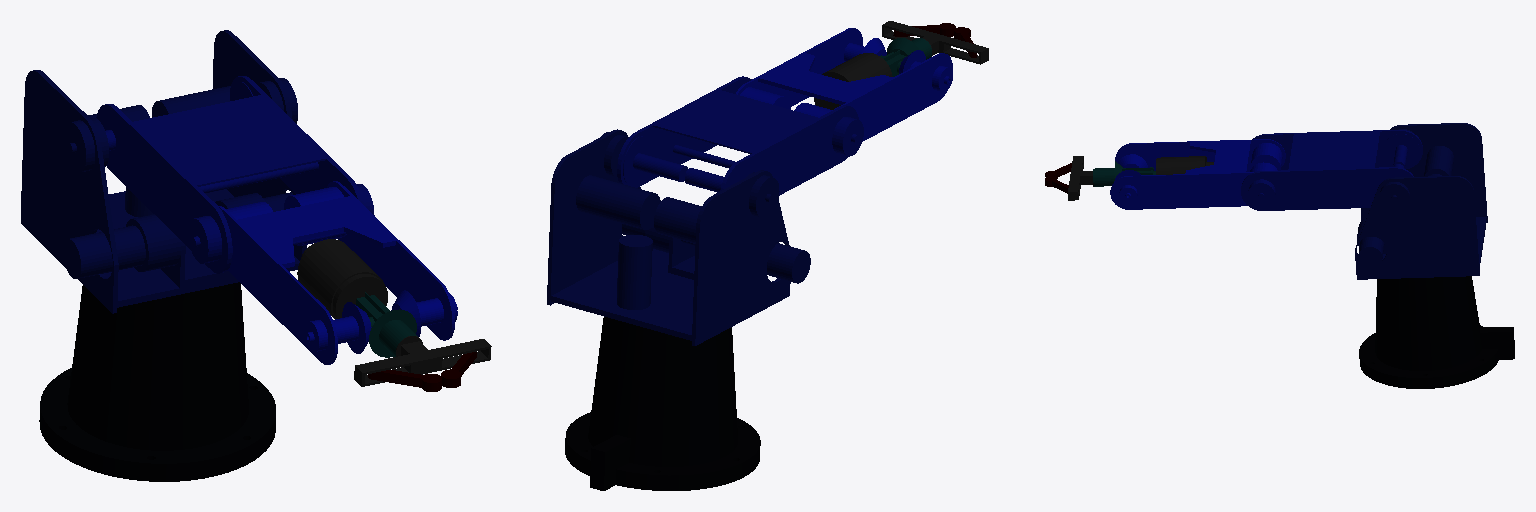
The robot description file, URDF, robot "sboter4u_model":
<robot
  name="sboter4u_model">
  <link
    name="base_Link">
    <inertial>
      <origin
        xyz="0.13275 0.14932 0.15353"
        rpy="0 0 0" />
      <mass
        value="13.939" />
      <inertia
        ixx="0.10125"
        ixy="-0.00021844"
        ixz="-0.00033793"
        iyy="0.087972"
        iyz="0.0034335"
        izz="0.095961" />
    </inertial>
    <visual>
      <origin
        xyz="0 0 0"
        rpy="0 0 0" />
      <geometry>
        <mesh
          filename="package://sboter4u_model/meshes/base_Link.STL" />
      </geometry>
      <material
        name="">
        <color
          rgba="0.01706 0.01961 0.02824 1" />
      </material>
    </visual>
    <collision>
      <origin
        xyz="0 0 0"
        rpy="0 0 0" />
      <geometry>
        <mesh
          filename="package://sboter4u_model/meshes/base_Link.STL" />
      </geometry>
    </collision>
  </link>
  <link
    name="shoulder_Link">
    <inertial>
      <origin
        xyz="0.00064794 -0.0081798 0.11189"
        rpy="0 0 0" />
      <mass
        value="12.102" />
      <inertia
        ixx="0.069345"
        ixy="0.00053463"
        ixz="-9.59E-05"
        iyy="0.09864"
        iyz="0.0061367"
        izz="0.10261" />
    </inertial>
    <visual>
      <origin
        xyz="0 0 0"
        rpy="0 0 0" />
      <geometry>
        <mesh
          filename="package://sboter4u_model/meshes/shoulder_Link.STL" />
      </geometry>
      <material
        name="">
        <color
          rgba="0.02941 0.04902 0.24902 1" />
      </material>
    </visual>
    <collision>
      <origin
        xyz="0 0 0"
        rpy="0 0 0" />
      <geometry>
        <mesh
          filename="package://sboter4u_model/meshes/shoulder_Link.STL" />
      </geometry>
    </collision>
  </link>
  <joint
    name="base_joint"
    type="revolute">
    <origin
      xyz="0.13222 -0.16175 0.21721"
      rpy="0.063114 2.647E-17 -0.063535" />
    <parent
      link="base_Link" />
    <child
      link="shoulder_Link" />
    <axis
      xyz="0 0 1" />
    <limit
      lower="-2.7054"
      upper="2.7054"
      effort="5"
      velocity="0.3488" />
    <dynamics
      damping="0.01"
      friction="0.01" />
  </joint>
  <link
    name="elbow_Link">
    <inertial>
      <origin
        xyz="7.2164E-16 -0.11075 0.0039402"
        rpy="0 0 0" />
      <mass
        value="2.8284" />
      <inertia
        ixx="0.021626"
        ixy="-8.9392E-17"
        ixz="2.0553E-15"
        iyy="0.013632"
        iyz="-2.3367E-05"
        izz="0.033242" />
    </inertial>
    <visual>
      <origin
        xyz="0 0 0"
        rpy="0 0 0" />
      <geometry>
        <mesh
          filename="package://sboter4u_model/meshes/elbow_Link.STL" />
      </geometry>
      <material
        name="">
        <color
          rgba="0.02941 0.04902 0.34902 1" />
      </material>
    </visual>
    <collision>
      <origin
        xyz="0 0 0"
        rpy="0 0 0" />
      <geometry>
        <mesh
          filename="package://sboter4u_model/meshes/elbow_Link.STL" />
      </geometry>
    </collision>
  </link>
  <joint
    name="shoulder_joint"
    type="revolute">
    <origin
      xyz="0 -0.029 0.19766"
      rpy="0 -8.6736E-19 -1.3878E-17" />
    <parent
      link="shoulder_Link" />
    <child
      link="elbow_Link" />
    <axis
      xyz="1 0 0" />
    <limit
      lower="-2.2690"
      upper="0.5236"
      effort="4"
      velocity="0.4587" />
    <dynamics
      damping="0.01"
      friction="0.01" />
  </joint>
  <link
    name="pitch_Link">
    <inertial>
      <origin
        xyz="2.9815E-13 -0.073952 0.003323"
        rpy="0 0 0" />
      <mass
        value="3.2412" />
      <inertia
        ixx="0.027436"
        ixy="-1.1652E-13"
        ixz="-1.6685E-15"
        iyy="0.0081405"
        iyz="0.00011392"
        izz="0.034105" />
    </inertial>
    <visual>
      <origin
        xyz="0 0 0"
        rpy="0 0 0" />
      <geometry>
        <mesh
          filename="package://sboter4u_model/meshes/pitch_Link.STL" />
      </geometry>
      <material
        name="">
        <color
          rgba="0.02941 0.04902 0.44902 1" />
      </material>
    </visual>
    <collision>
      <origin
        xyz="0 0 0"
        rpy="0 0 0" />
      <geometry>
        <mesh
          filename="package://sboter4u_model/meshes/pitch_Link.STL" />
      </geometry>
    </collision>
  </link>
  <joint
    name="elbow_joint"
    type="revolute">
    <origin
      xyz="0 -0.22 0"
      rpy="1.3878E-17 1.6914E-16 1.3461E-15" />
    <parent
      link="elbow_Link" />
    <child
      link="pitch_Link" />
    <axis
      xyz="1 0 0" />
    <limit
      lower="-1.8327"
      upper="2.2690"
      effort="3"
      velocity="0.4587" />
    <dynamics
      damping="0.01"
      friction="0.01" />
  </joint>
  <link
    name="roll_Link">
    <inertial>
      <origin
        xyz="5.0577E-05 3.8307E-10 -0.018366"
        rpy="0 0 0" />
      <mass
        value="0.48195" />
      <inertia
        ixx="0.00036556"
        ixy="-7.8517E-13"
        ixz="7.4017E-07"
        iyy="0.00036398"
        iyz="-2.2678E-13"
        izz="6.7274E-05" />
    </inertial>
    <visual>
      <origin
        xyz="0 0 0"
        rpy="0 0 0" />
      <geometry>
        <mesh
          filename="package://sboter4u_model/meshes/roll_Link.STL" />
      </geometry>
      <material
        name="">
        <color
          rgba="0.02941 0.14902 0.14902 1" />
      </material>
    </visual>
    <collision>
      <origin
        xyz="0 0 0"
        rpy="0 0 0" />
      <geometry>
        <mesh
          filename="package://sboter4u_model/meshes/roll_Link.STL" />
      </geometry>
    </collision>
  </link>
  <joint
    name="pitch_joint"
    type="revolute">
    <origin
      xyz="0 -0.22 0"
      rpy="-1.5708 -1.5708 0" />
    <parent
      link="pitch_Link" />
    <child
      link="roll_Link" />
    <axis
      xyz="0 1 0" />
    <limit
      lower="-2.2690"
      upper="2.2690"
      effort="2"
      velocity="1.4478" />
    <dynamics
      damping="0.01"
      friction="0.01" />
  </joint>
  <link
    name="gripper_Link">
    <inertial>
      <origin
        xyz="2.2204E-16 -8.3267E-17 0.070299"
        rpy="0 0 0" />
      <mass
        value="0.27956" />
      <inertia
        ixx="0.00098187"
        ixy="-2.7952E-20"
        ixz="2.8189E-18"
        iyy="0.00095638"
        iyz="-2.4183E-18"
        izz="0.00013429" />
    </inertial>
    <visual>
      <origin
        xyz="0 0 0"
        rpy="0 0 0" />
      <geometry>
        <mesh
          filename="package://sboter4u_model/meshes/gripper_Link.STL" />
      </geometry>
      <material
        name="">
        <color
          rgba="0.1 0.1 0.1 1" />
      </material>
    </visual>
    <collision>
      <origin
        xyz="0 0 0"
        rpy="0 0 0" />
      <geometry>
        <mesh
          filename="package://sboter4u_model/meshes/gripper_Link.STL" />
      </geometry>
    </collision>
  </link>
  <joint
    name="roll_joint"
    type="revolute">
    <origin
      xyz="0 0 0"
      rpy="0 1.3878E-17 0" />
    <parent
      link="roll_Link" />
    <child
      link="gripper_Link" />
    <axis
      xyz="0 0 1" />
    <limit
      lower="-9.9490"
      upper="9.9490"
      effort="2"
      velocity="1.8491" />
    <dynamics
      damping="0.01"
      friction="0.01" />
  </joint>
  <link
    name="pad1_Link">
    <inertial>
      <origin
        xyz="-0.039374 5.5511E-17 -0.00025"
        rpy="0 0 0" />
      <mass
        value="0.007491" />
      <inertia
        ixx="1.655E-07"
        ixy="-2.9699E-20"
        ixz="-3.3353E-19"
        iyy="3.5223E-06"
        iyz="3.7058E-22"
        izz="3.563E-06" />
    </inertial>
    <visual>
      <origin
        xyz="0 0 0"
        rpy="0 0 0" />
      <geometry>
        <mesh
          filename="package://sboter4u_model/meshes/pad1_Link.STL" />
      </geometry>
      <material
        name="">
        <color
          rgba="0.1 0 0 1" />
      </material>
    </visual>
    <collision>
      <origin
        xyz="0 0 0"
        rpy="0 0 0" />
      <geometry>
        <mesh
          filename="package://sboter4u_model/meshes/pad1_Link.STL" />
      </geometry>
    </collision>
  </link>
  <joint
    name="pad1_joint"
    type="revolute">
    <origin
      xyz="0 -0.0545 -0.0905"
      rpy="1.5708 -0.74758 -1.5708" />
    <parent
      link="gripper_Link" />
    <child
      link="pad1_Link" />
    <axis
      xyz="0 0 1" />
    <limit
      lower="0"
      upper="1.5709"
      effort="1"
      velocity="2" />
    <dynamics
      damping="0.01"
      friction="0.01" />
  </joint>
  <link
    name="pad2_Link">
    <inertial>
      <origin
        xyz="-0.039374 -2.2204E-16 -0.00025"
        rpy="0 0 0" />
      <mass
        value="0.007491" />
      <inertia
        ixx="1.655E-07"
        ixy="-2.9951E-20"
        ixz="-3.496E-19"
        iyy="3.5223E-06"
        iyz="1.4029E-21"
        izz="3.563E-06" />
    </inertial>
    <visual>
      <origin
        xyz="0 0 0"
        rpy="0 0 0" />
      <geometry>
        <mesh
          filename="package://sboter4u_model/meshes/pad2_Link.STL" />
      </geometry>
      <material
        name="">
        <color
          rgba="0.1 0 0 1" />
      </material>
    </visual>
    <collision>
      <origin
        xyz="0 0 0"
        rpy="0 0 0" />
      <geometry>
        <mesh
          filename="package://sboter4u_model/meshes/pad2_Link.STL" />
      </geometry>
    </collision>
  </link>
  <joint
    name="pad2_joint"
    type="revolute">
    <origin
      xyz="0 0.0545 -0.0905"
      rpy="-1.5708 -0.74758 1.5708" />
    <parent
      link="gripper_Link" />
    <child
      link="pad2_Link" />
    <axis
      xyz="0 0 -1" />
    <limit
      lower="0"
      upper="1.5709"
      effort="1"
      velocity="2" />
    <dynamics
      damping="0.01"
      friction="0.01" />
  </joint>
</robot>

--- Render facts (derived) ---
Views: 3 orthographic renders of the robot side by side, from view 1: azimuth 30°, elevation 25°; view 2: azimuth 150°, elevation 25°; view 3: azimuth 270°, elevation 25°.
Robot: sboter4u_model — 8 links, 7 joints (7 revolute); root link base_Link; default pose: every joint at zero.
Links seen in each view (by area): view 1: base_Link, shoulder_Link, elbow_Link, pitch_Link, gripper_Link, roll_Link, pad1_Link, pad2_Link; view 2: shoulder_Link, base_Link, elbow_Link, pitch_Link, gripper_Link, roll_Link; view 3: shoulder_Link, base_Link, elbow_Link, pitch_Link, gripper_Link, roll_Link.
Link boxes in pixels (x1=…): base_Link: x1=39, y1=282, x2=275, y2=481; shoulder_Link: x1=21, y1=30, x2=306, y2=313; elbow_Link: x1=96, y1=76, x2=374, y2=273; pitch_Link: x1=218, y1=181, x2=457, y2=364; gripper_Link: x1=297, y1=239, x2=491, y2=386; roll_Link: x1=356, y1=292, x2=417, y2=357; pad1_Link: x1=368, y1=370, x2=441, y2=391; pad2_Link: x1=441, y1=352, x2=476, y2=387; shoulder_Link: x1=547, y1=129, x2=810, y2=345; base_Link: x1=565, y1=317, x2=760, y2=490; elbow_Link: x1=617, y1=76, x2=863, y2=195; pitch_Link: x1=736, y1=28, x2=952, y2=141; gripper_Link: x1=814, y1=21, x2=988, y2=109; roll_Link: x1=880, y1=38, x2=931, y2=76; shoulder_Link: x1=1355, y1=123, x2=1487, y2=279; base_Link: x1=1359, y1=276, x2=1514, y2=388; elbow_Link: x1=1241, y1=130, x2=1422, y2=210; pitch_Link: x1=1110, y1=139, x2=1285, y2=209; gripper_Link: x1=1068, y1=156, x2=1213, y2=200; roll_Link: x1=1093, y1=161, x2=1155, y2=186.
Bounding box of the posed robot: 0.276 × 0.7707 × 0.387 m (x, y, z).
8 mesh visuals loaded from 8 distinct referenced files (8 binary STL).
